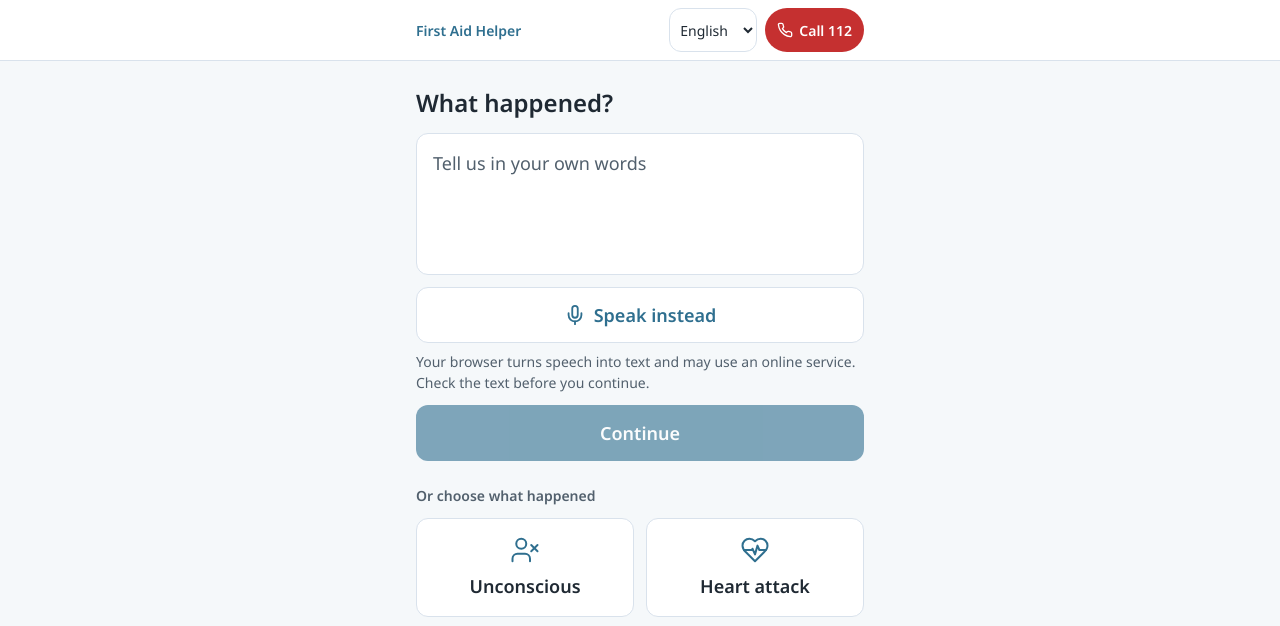
Test: App › walks from emergency to one step at a time
Type "not breathing" into the text box labelled "What happened?".
click(640, 204); type("not breathing")  # box [416,133,864,275]
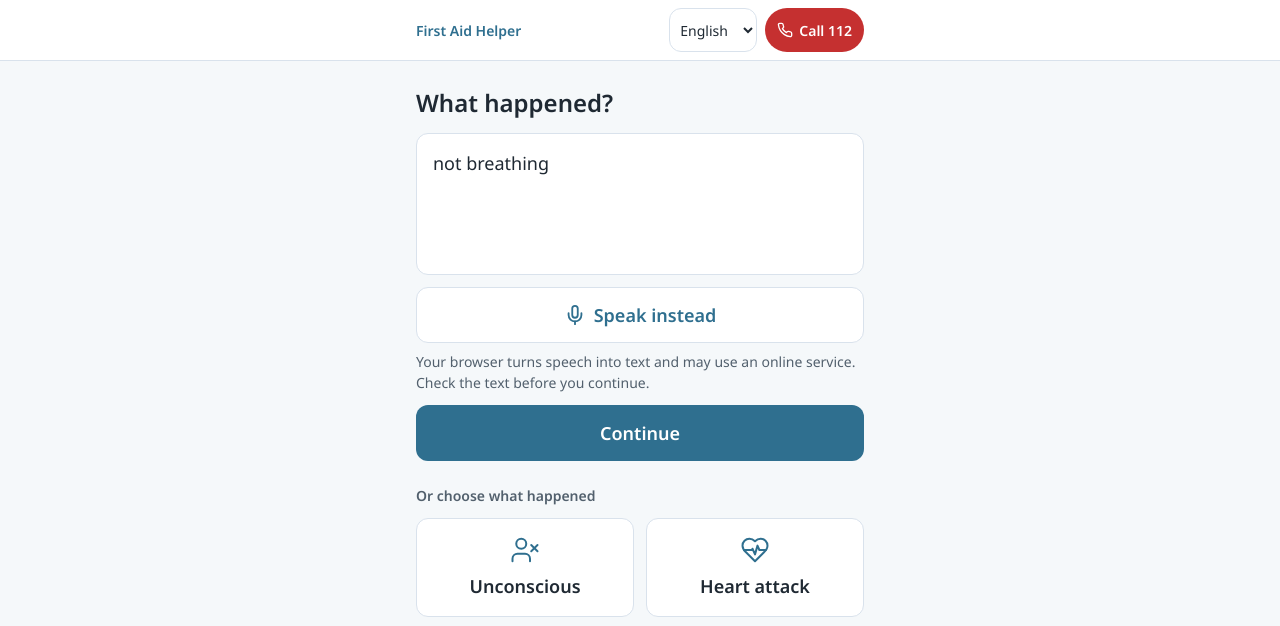
Click the button "Continue".
click(640, 433)  # box [416,405,864,461]
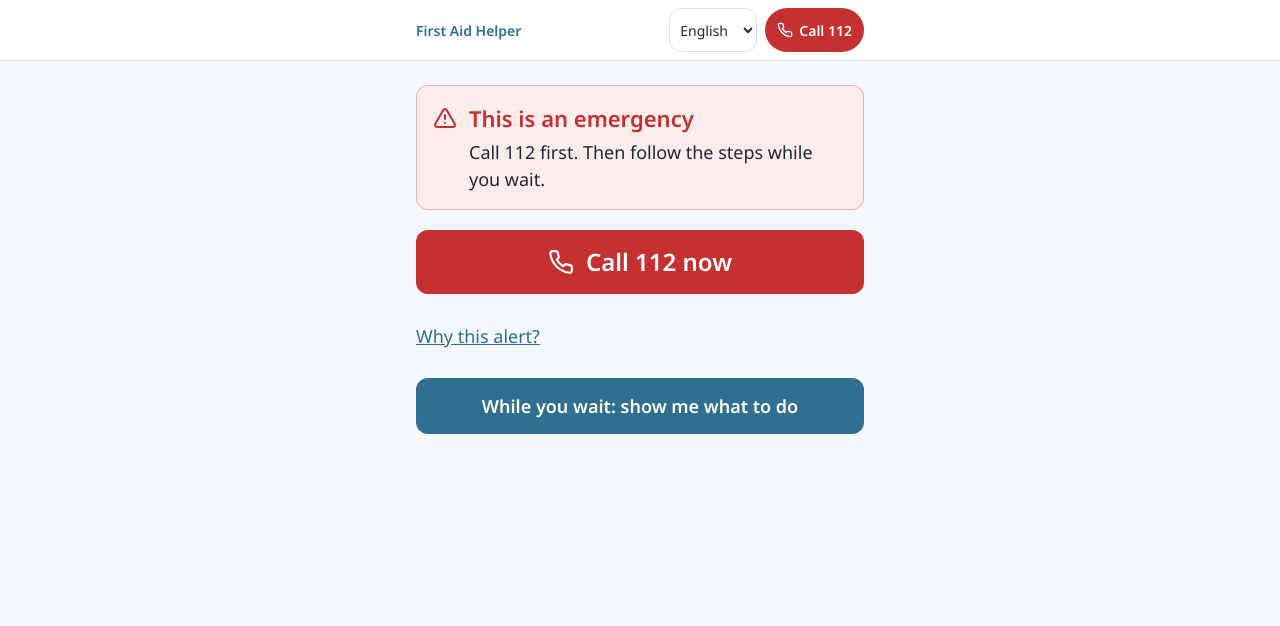
Check: the text "This is an emergency" is shown, box [469,103,694,133]
Click the button "Why this alert?".
click(478, 336)  # box [416,314,540,358]
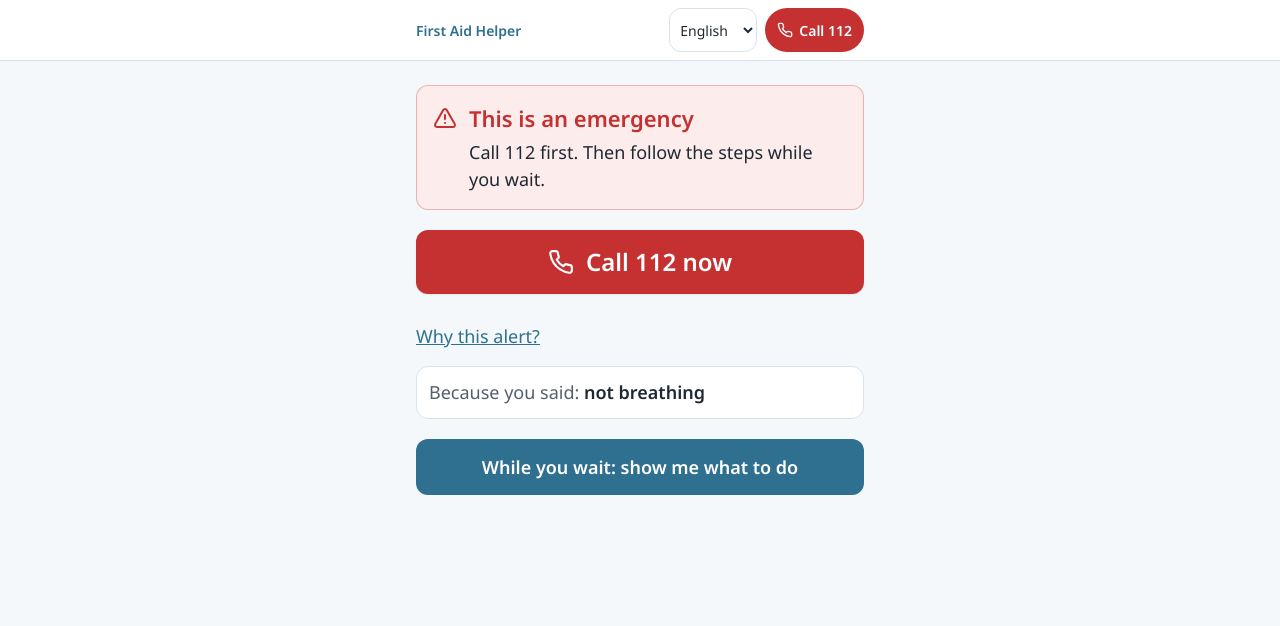
Check: the text "not breathing" is shown, box [584,380,705,404]
Click the button "While you wait: show me what to do".
click(640, 467)  # box [416,439,864,495]
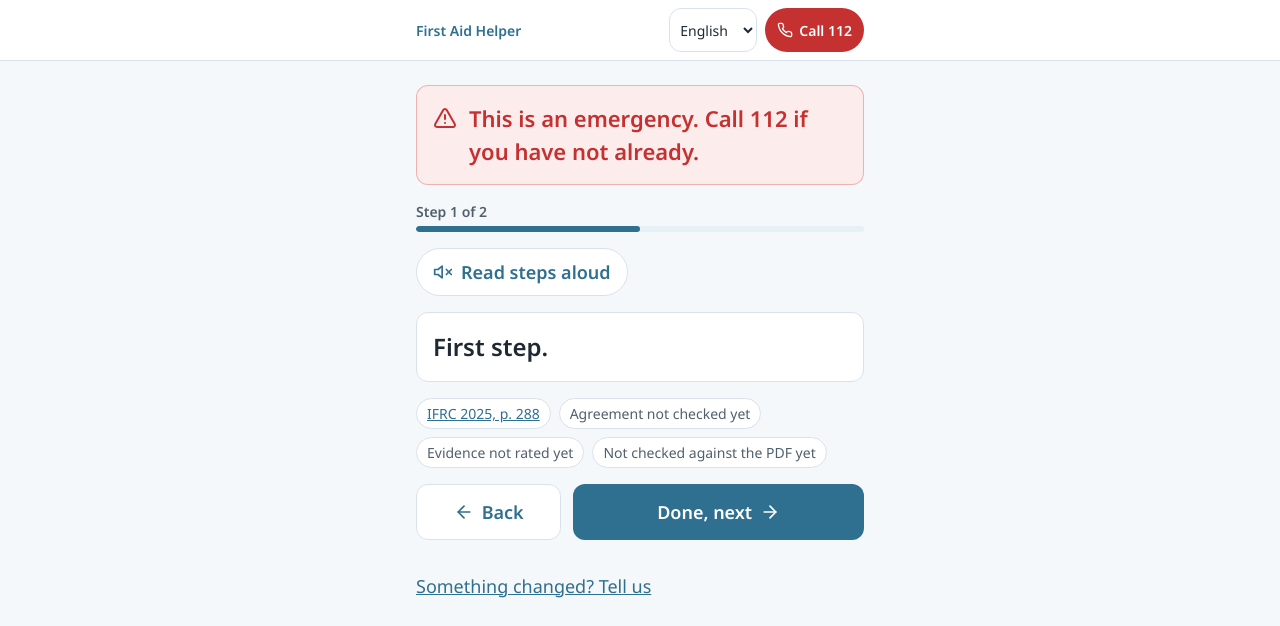
Check: the link "Call 112" is shown, box [765,8,864,52]
Check: the text with test id "step-text" reads "First step.", box [433,330,548,363]
Check: the text "Step 1 of 2" is shown, box [416,202,487,221]
Click the button "Done, next".
click(719, 512)  # box [573,484,864,540]
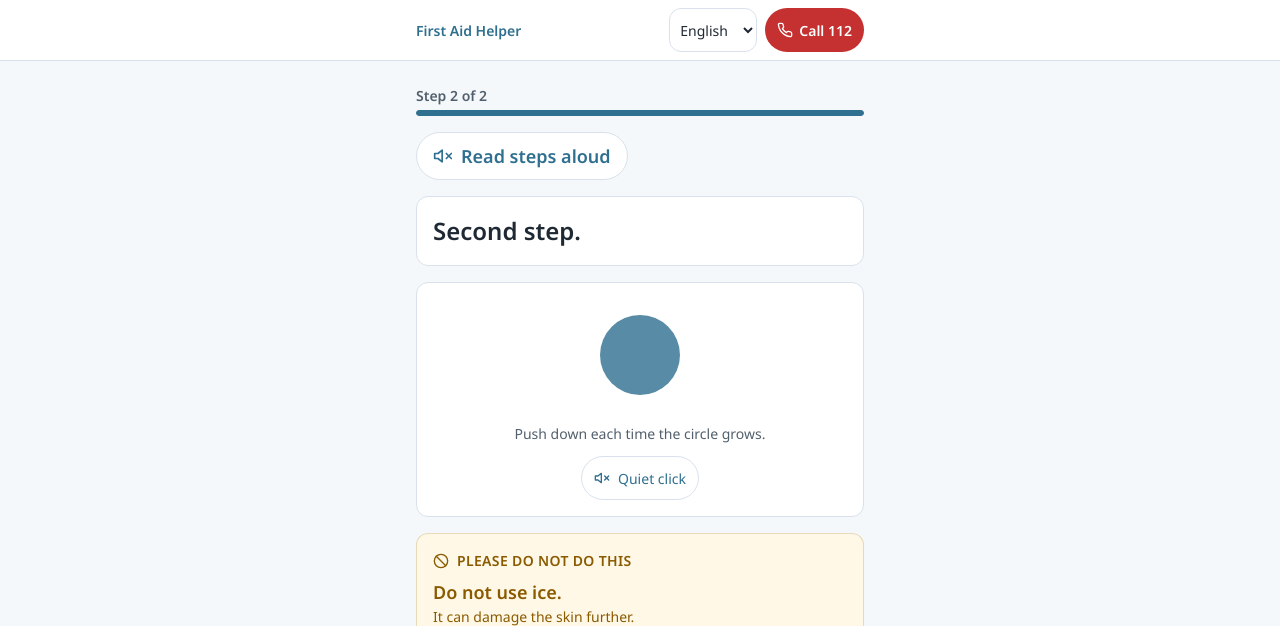
Check: the text with test id "step-text" reads "Second step.", box [433,214,581,247]
Check: the text "Do not use ice." is shown, box [433,580,562,604]
Check: the text "Push down each time the circle grows." is shown, box [514,423,766,444]
